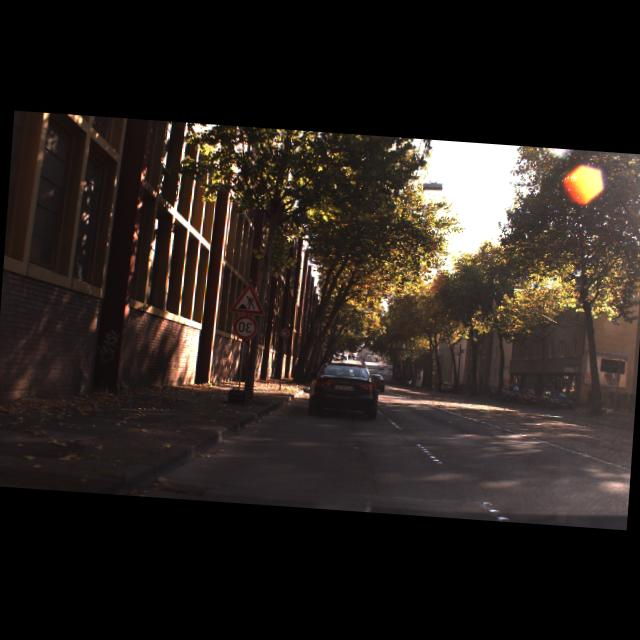danger: (228, 281, 266, 315)
prohibitory: (232, 314, 259, 341)
